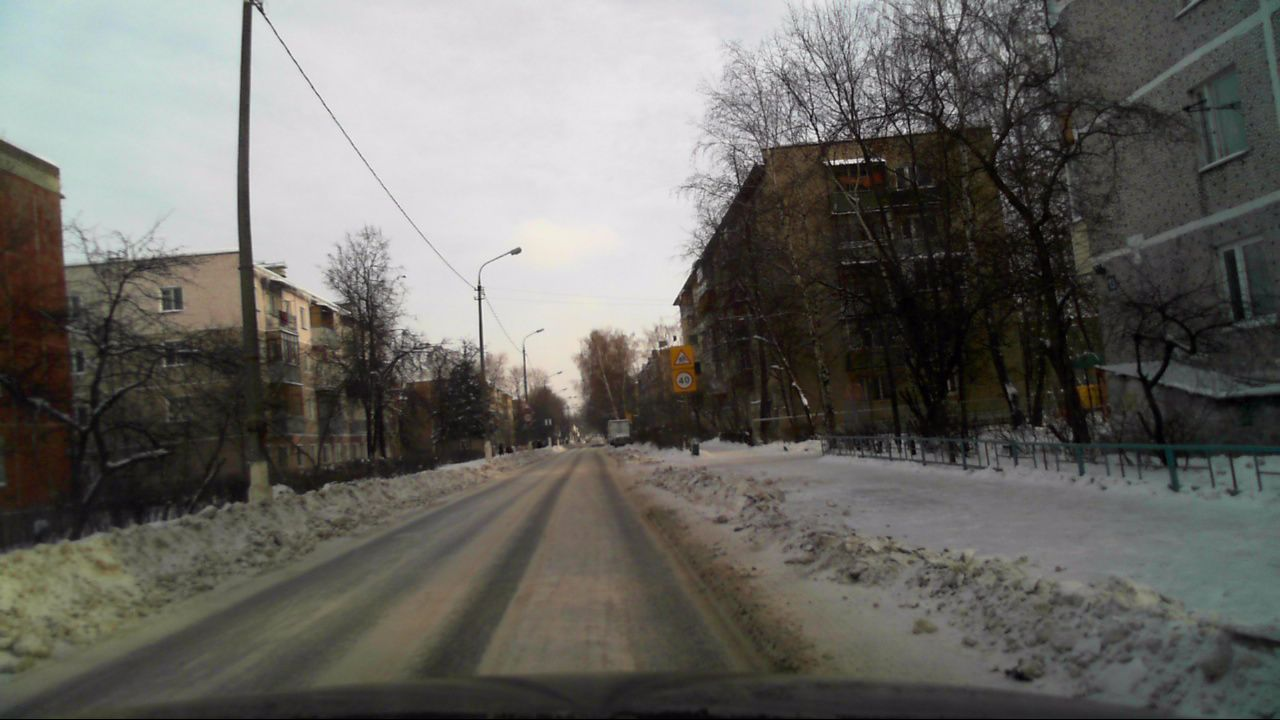speed_warning_40: (671, 368, 695, 392)
